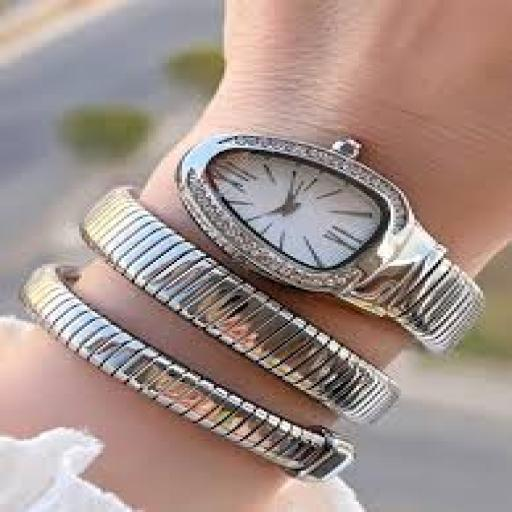KolSaati: (37, 109, 508, 487)
